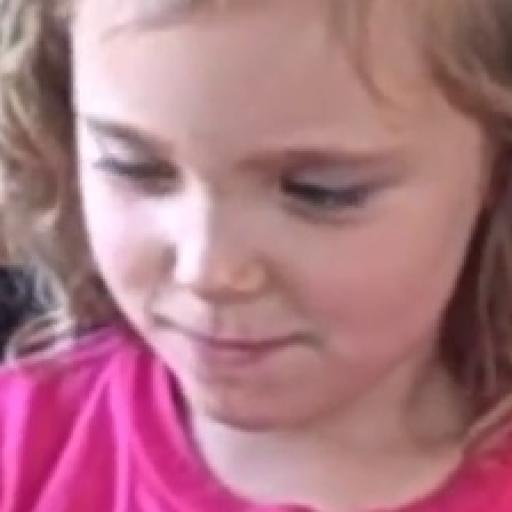Autism: (39, 0, 503, 482)
